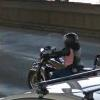Motorcycle: (16, 38, 88, 89)
